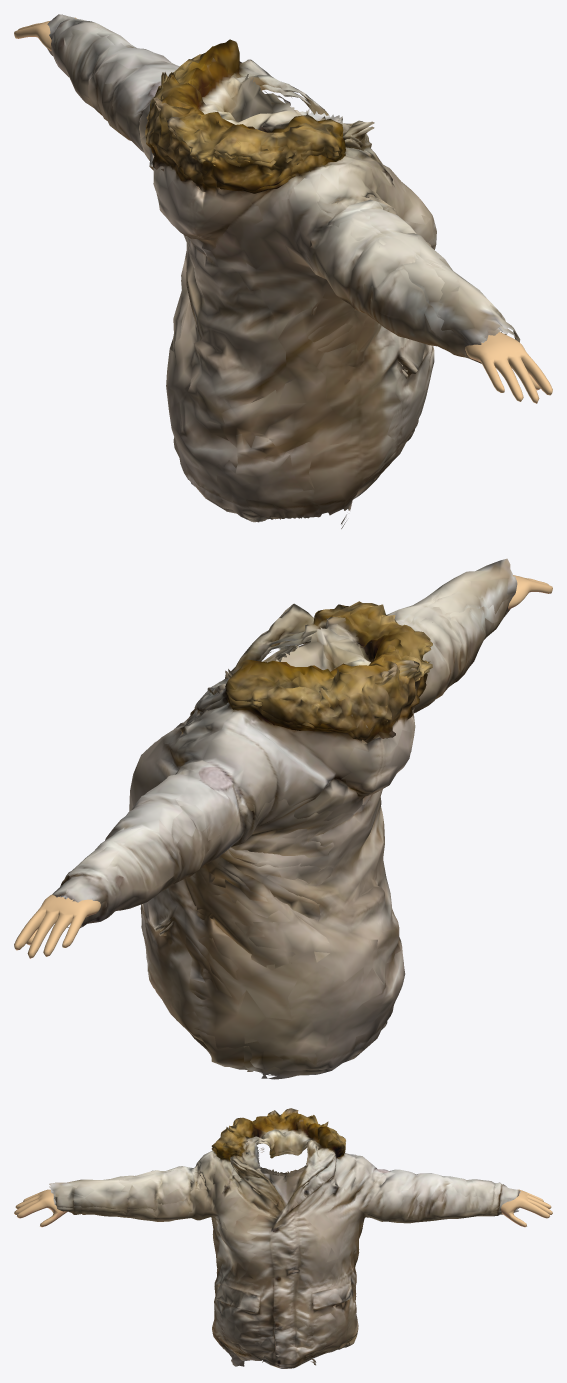
The model's file is &&coat.glb.
3 views of the same model, one above another, from view 1: azimuth 30°, elevation 25°; view 2: azimuth 150°, elevation 25°; view 3: azimuth 270°, elevation 25° (orthographic). The views are drawn at different scales.
Parts seen in each view (by area): view 1: chest_w.002, chest.001, chest_w, chest_w.001, Chest, chest.002; view 2: chest_w.002, Chest, chest.001, chest_w.001, chest_w, chest.002; view 3: chest_w.002, chest_w.001, chest.002, Chest, chest_w, chest.001.
Boxes of the visible parts, x1,y1,x2,y2 form: chest_w.002: (14,18,551,524); chest.001: (49,36,518,523); chest_w: (46,14,552,400); chest_w.001: (66,16,516,345); Chest: (15,35,550,528); chest.002: (122,40,551,523); chest_w.002: (14,575,552,1075); Chest: (15,591,550,1079); chest.001: (94,595,513,999); chest_w.001: (52,558,517,899); chest_w: (14,575,529,1073); chest.002: (15,589,439,957); chest_w.002: (17,1109,549,1365); chest_w.001: (49,1108,518,1209); chest.002: (14,1113,552,1362); Chest: (15,1125,550,1368); chest_w: (14,1115,552,1340); chest.001: (68,1115,500,1366).
Bounding box in the file's own units: 0.6369 × 1.03 × 2.17.
9 materials, 1 textured.
